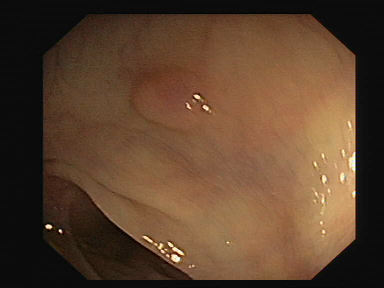polyp: (123, 60, 231, 136)
